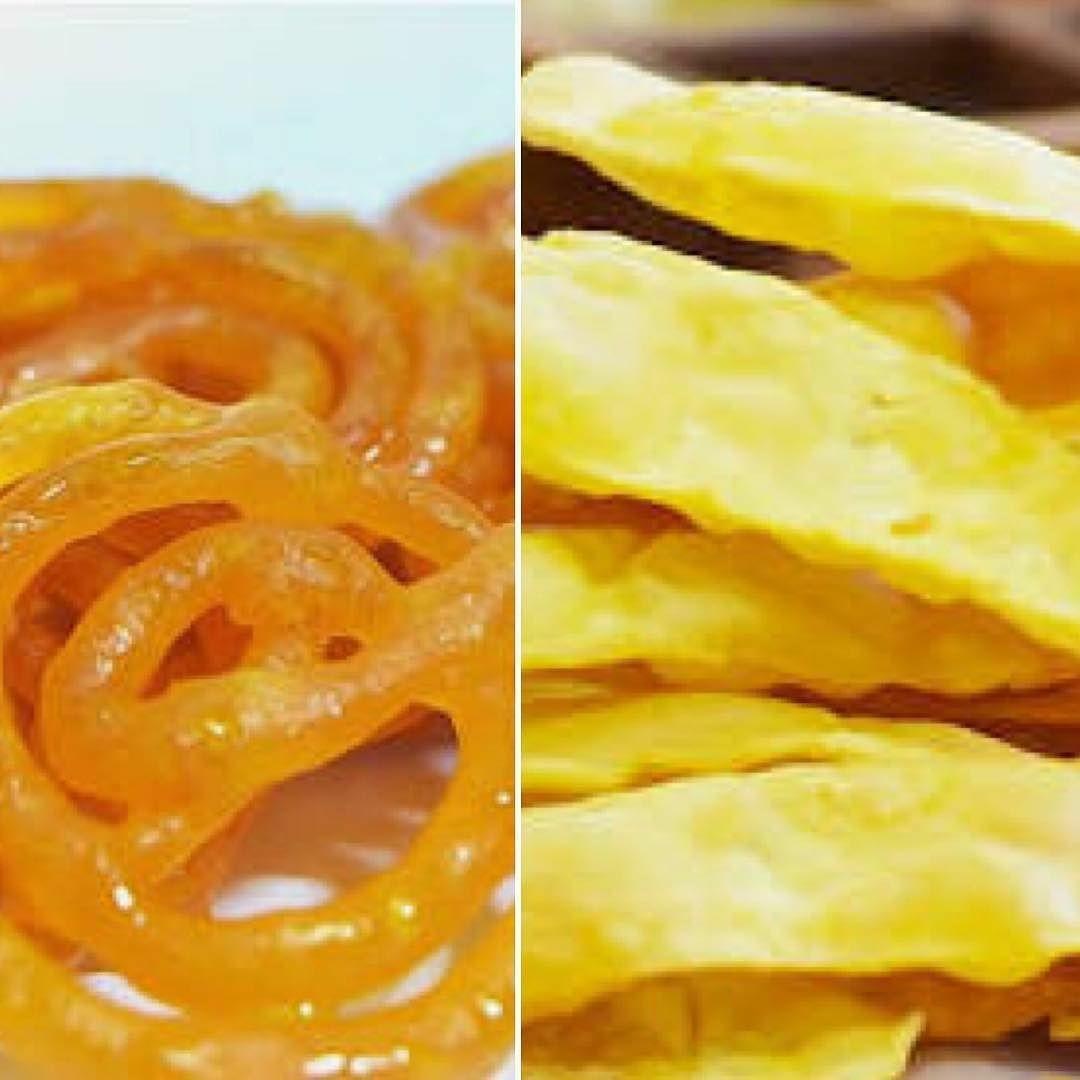Jalebi: (0, 170, 520, 1080)
